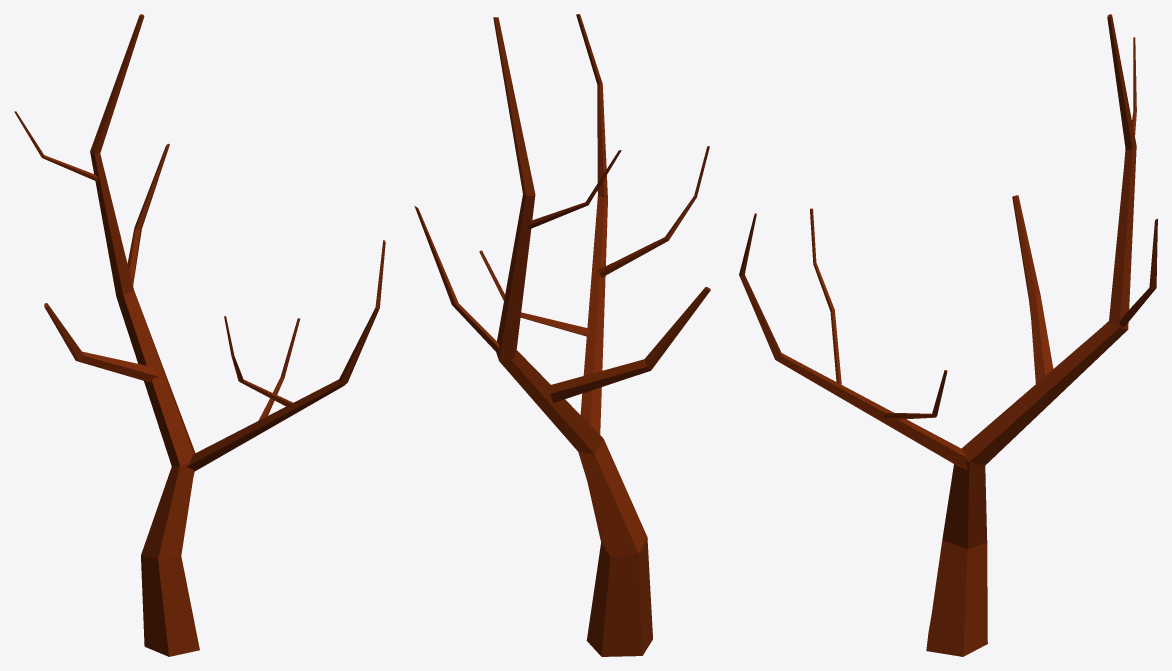
File: dead tree.FBX
3 renders of one model, left to right at view 1: azimuth 30°, elevation 25°; view 2: azimuth 150°, elevation 25°; view 3: azimuth 270°, elevation 25°, orthographic. The views are drawn at different scales.
Parts seen in each view (by area): view 1: DeadTree_08; view 2: DeadTree_08; view 3: DeadTree_08.
Part boxes in pixels (x1,y1,x2,y2): DeadTree_08: (14,14,385,656); DeadTree_08: (414,14,710,656); DeadTree_08: (739,14,1157,656).
Bounding box in the file's own units: 113 × 272 × 159.
